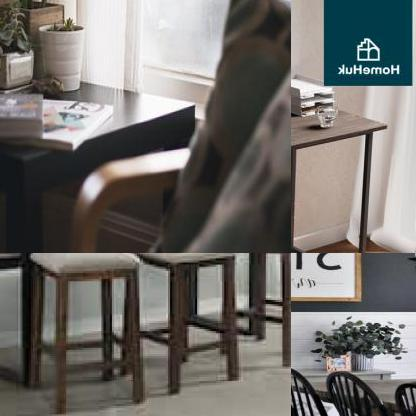table: (0, 41, 200, 252), (0, 253, 268, 396), (291, 83, 389, 252), (291, 365, 415, 415)
